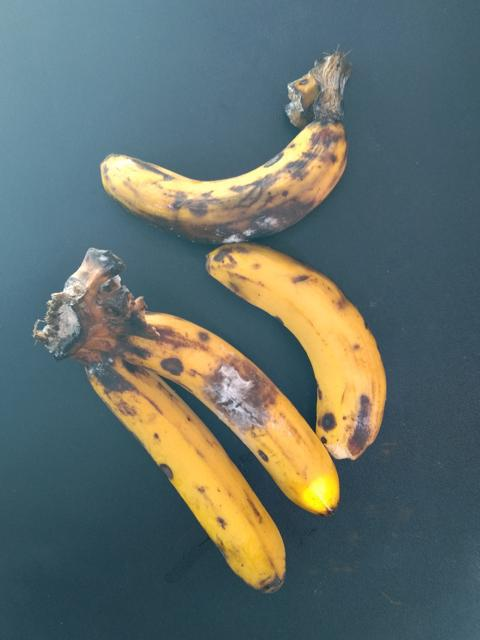overripe: (84, 358, 299, 594), (145, 308, 334, 522), (211, 252, 400, 464)
rotten: (82, 93, 373, 263)
